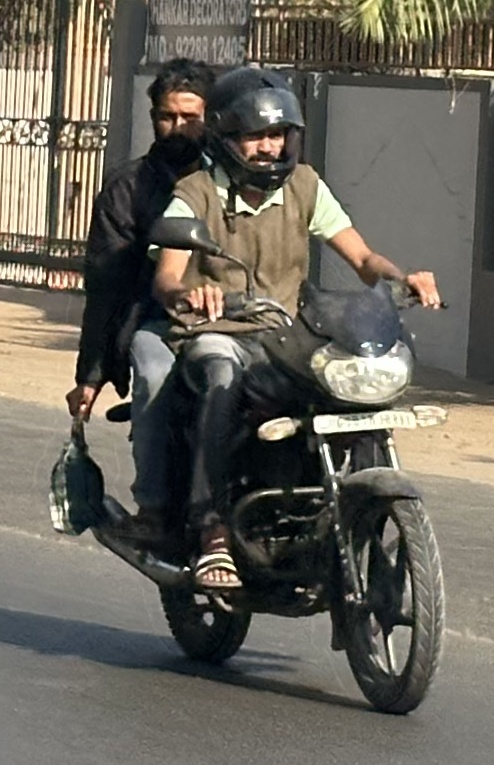BikeWithRider: (64, 53, 452, 717)
Helmet: (203, 64, 308, 191)
NoHelmet: (143, 56, 216, 167)
